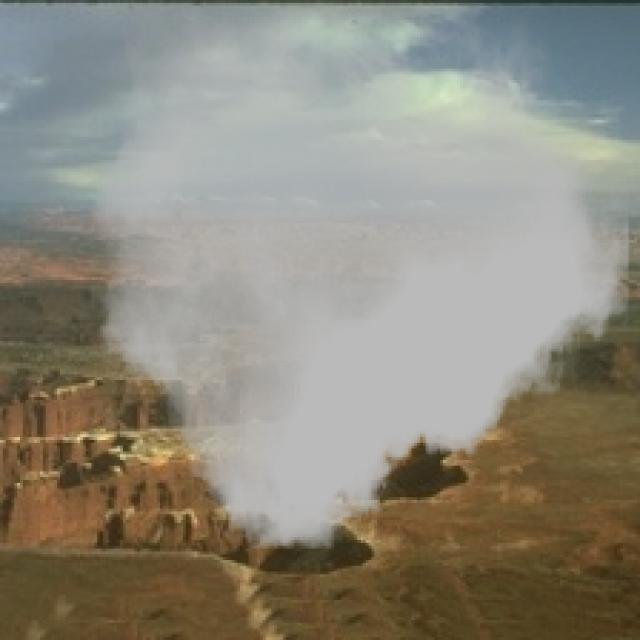Smoke: (91, 9, 628, 548)
